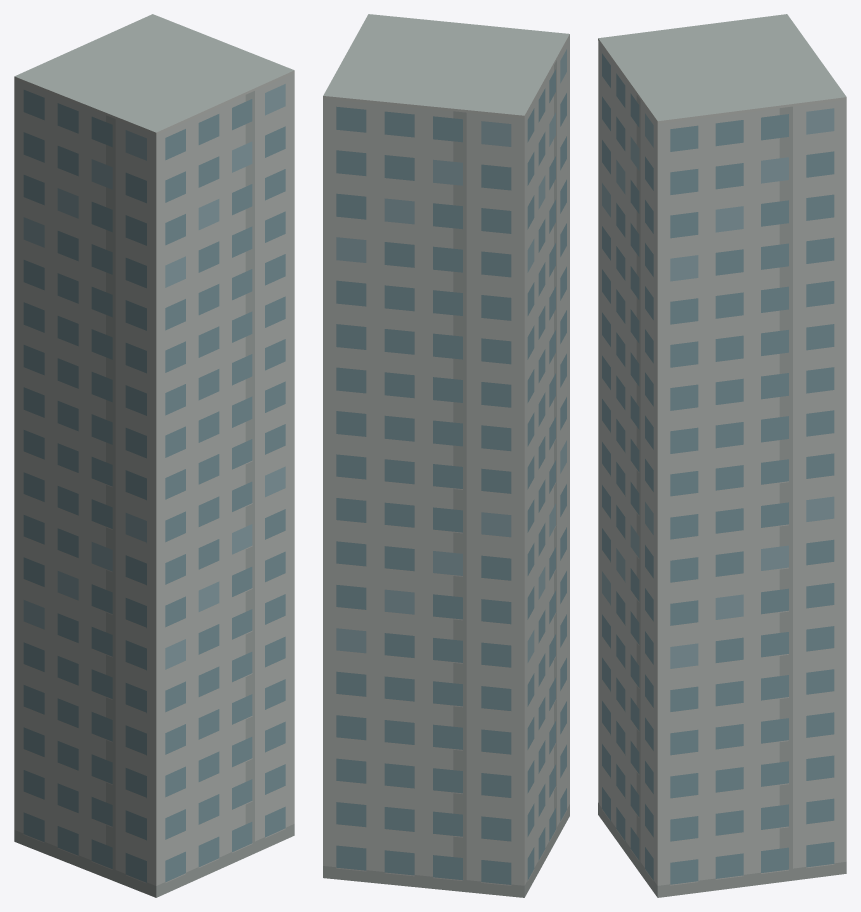
File: residential-6442a129-d85f-45fc-8184-3deecf042e0f.glb
3 views of the same model, side by side, from view 1: azimuth 30°, elevation 25°; view 2: azimuth 150°, elevation 25°; view 3: azimuth 270°, elevation 25° (orthographic). The views are drawn at different scales.
Parts seen in each view (by area): view 1: residential-6442a129-d85f-45fc-8184-3deecf042e0f.tmp; view 2: residential-6442a129-d85f-45fc-8184-3deecf042e0f.tmp; view 3: residential-6442a129-d85f-45fc-8184-3deecf042e0f.tmp.
Boxes of the visible parts, bbox=[...] form: residential-6442a129-d85f-45fc-8184-3deecf042e0f.tmp: bbox=[14, 14, 294, 897]; residential-6442a129-d85f-45fc-8184-3deecf042e0f.tmp: bbox=[323, 14, 569, 897]; residential-6442a129-d85f-45fc-8184-3deecf042e0f.tmp: bbox=[598, 14, 846, 897].
Bounding box in the file's own units: 22.22 × 75 × 21.76.
